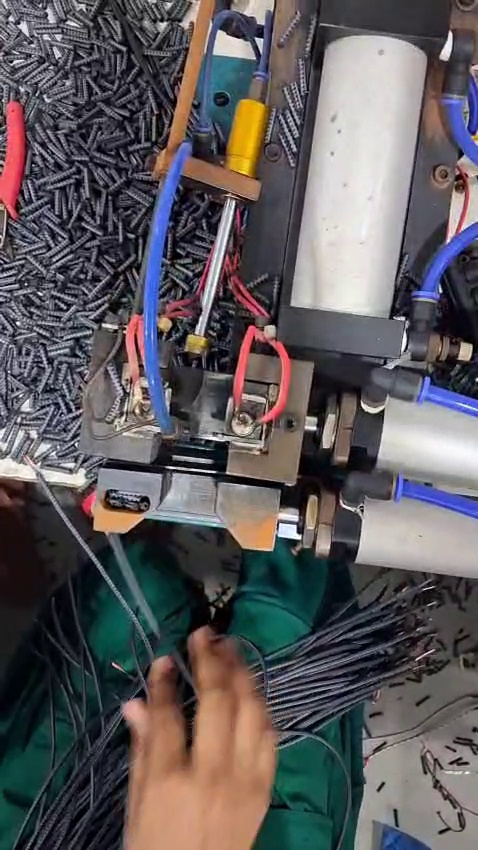machine: (76, 313, 332, 566)
